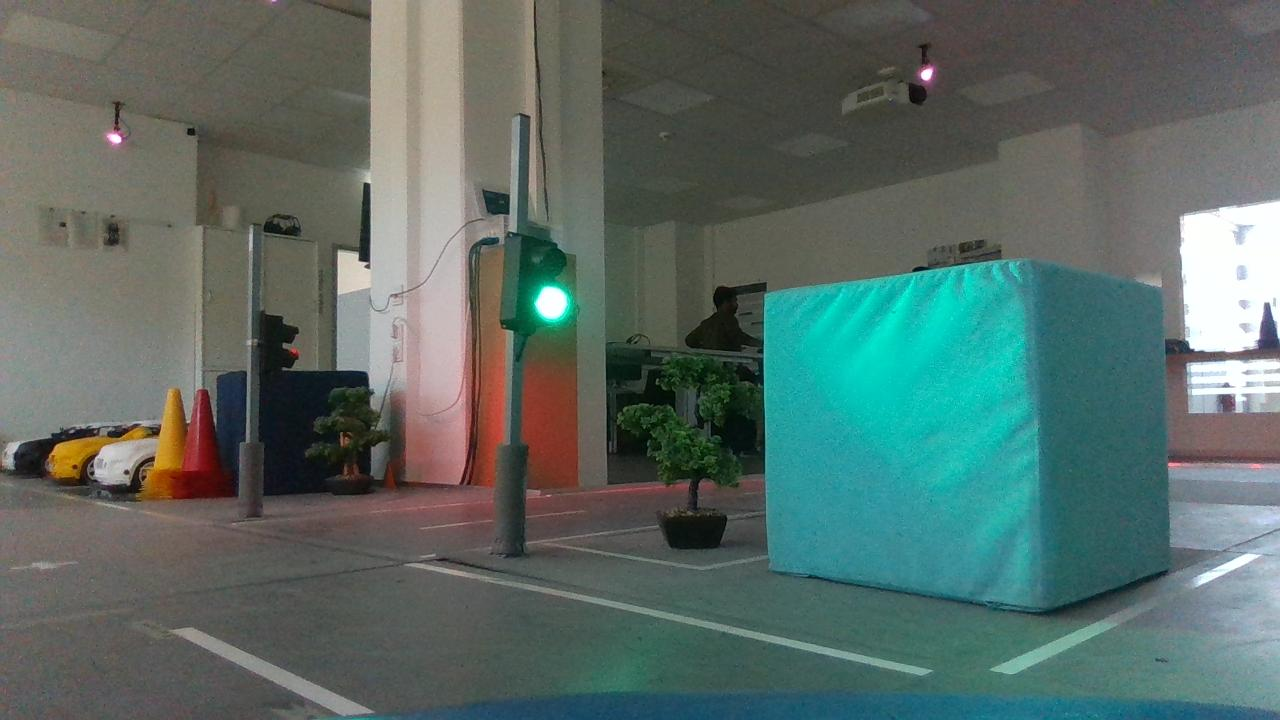traffic_light_green: (481, 214, 588, 349)
